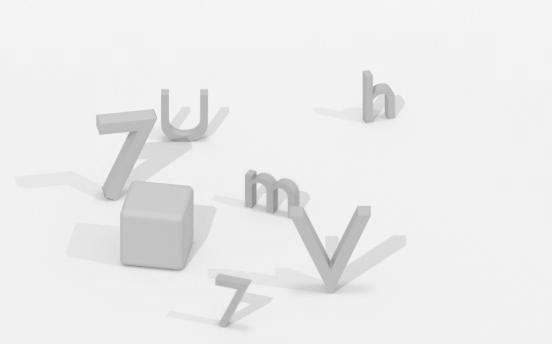chu_khoi: (289, 206, 370, 292), (245, 170, 299, 216), (161, 89, 207, 141), (362, 70, 396, 122)
lap_phuong: (120, 181, 193, 269)
so_khoi: (96, 109, 156, 199), (215, 274, 251, 326)
